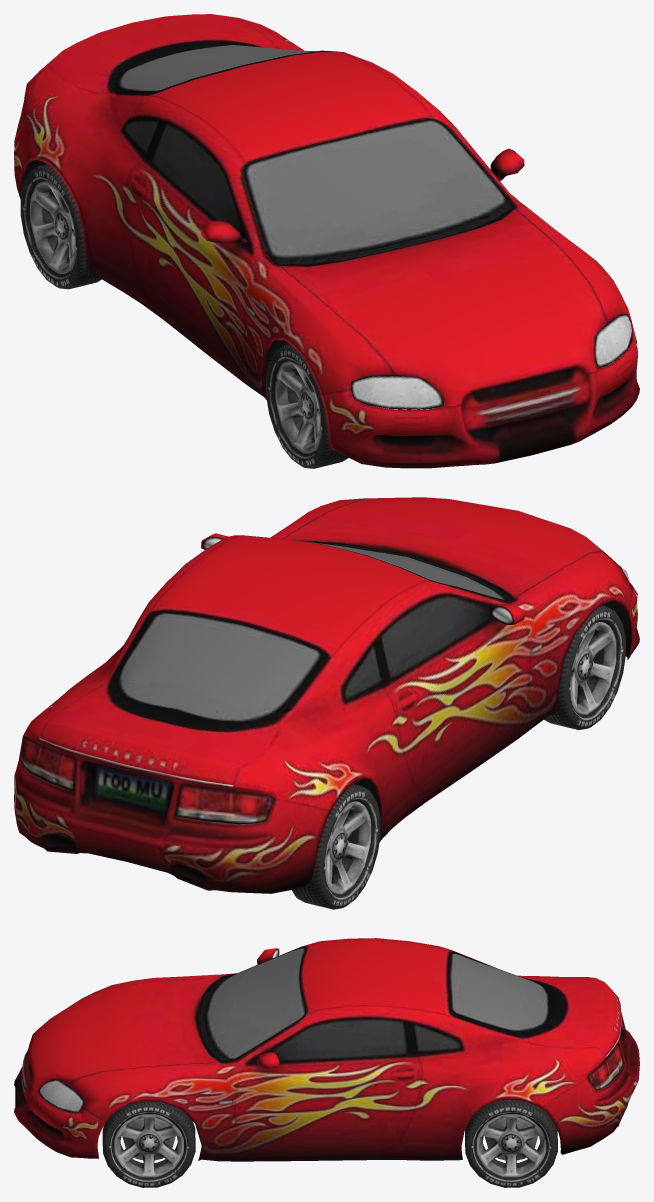
File: catamount.fbx
3 renders of one model, top to bottom at view 1: azimuth 30°, elevation 25°; view 2: azimuth 150°, elevation 25°; view 3: azimuth 270°, elevation 25°, orthographic. The views are drawn at different scales.
Parts seen in each view (by area): view 1: Body, Car_Glass, WheelRR.2, WheelFR.2, Bottom-Interior; view 2: Body, Car_Glass, WheelRR.2, WheelFR.2, Bottom-Interior; view 3: Body, Car_Glass, WheelRL.2, WheelFL.2, DiscBrakeRL, DiscBrakeFL.
Boxes of the visible parts, x1,y1,x2,y2 form: Body: [14, 14, 639, 468]; Car_Glass: [115, 44, 632, 409]; WheelRR.2: [20, 164, 101, 289]; WheelFR.2: [266, 344, 348, 468]; Bottom-Interior: [23, 160, 513, 392]; Body: [14, 497, 639, 893]; Car_Glass: [115, 535, 632, 722]; WheelRR.2: [292, 784, 380, 909]; WheelFR.2: [544, 605, 625, 729]; Bottom-Interior: [302, 541, 630, 813]; Body: [14, 938, 639, 1161]; Car_Glass: [38, 947, 551, 1112]; WheelRL.2: [465, 1100, 557, 1187]; WheelFL.2: [102, 1101, 195, 1187]; DiscBrakeRL: [485, 1117, 537, 1160]; DiscBrakeFL: [122, 1117, 175, 1160].
Bounding box in the file's own units: 92.46 × 63.19 × 214.
